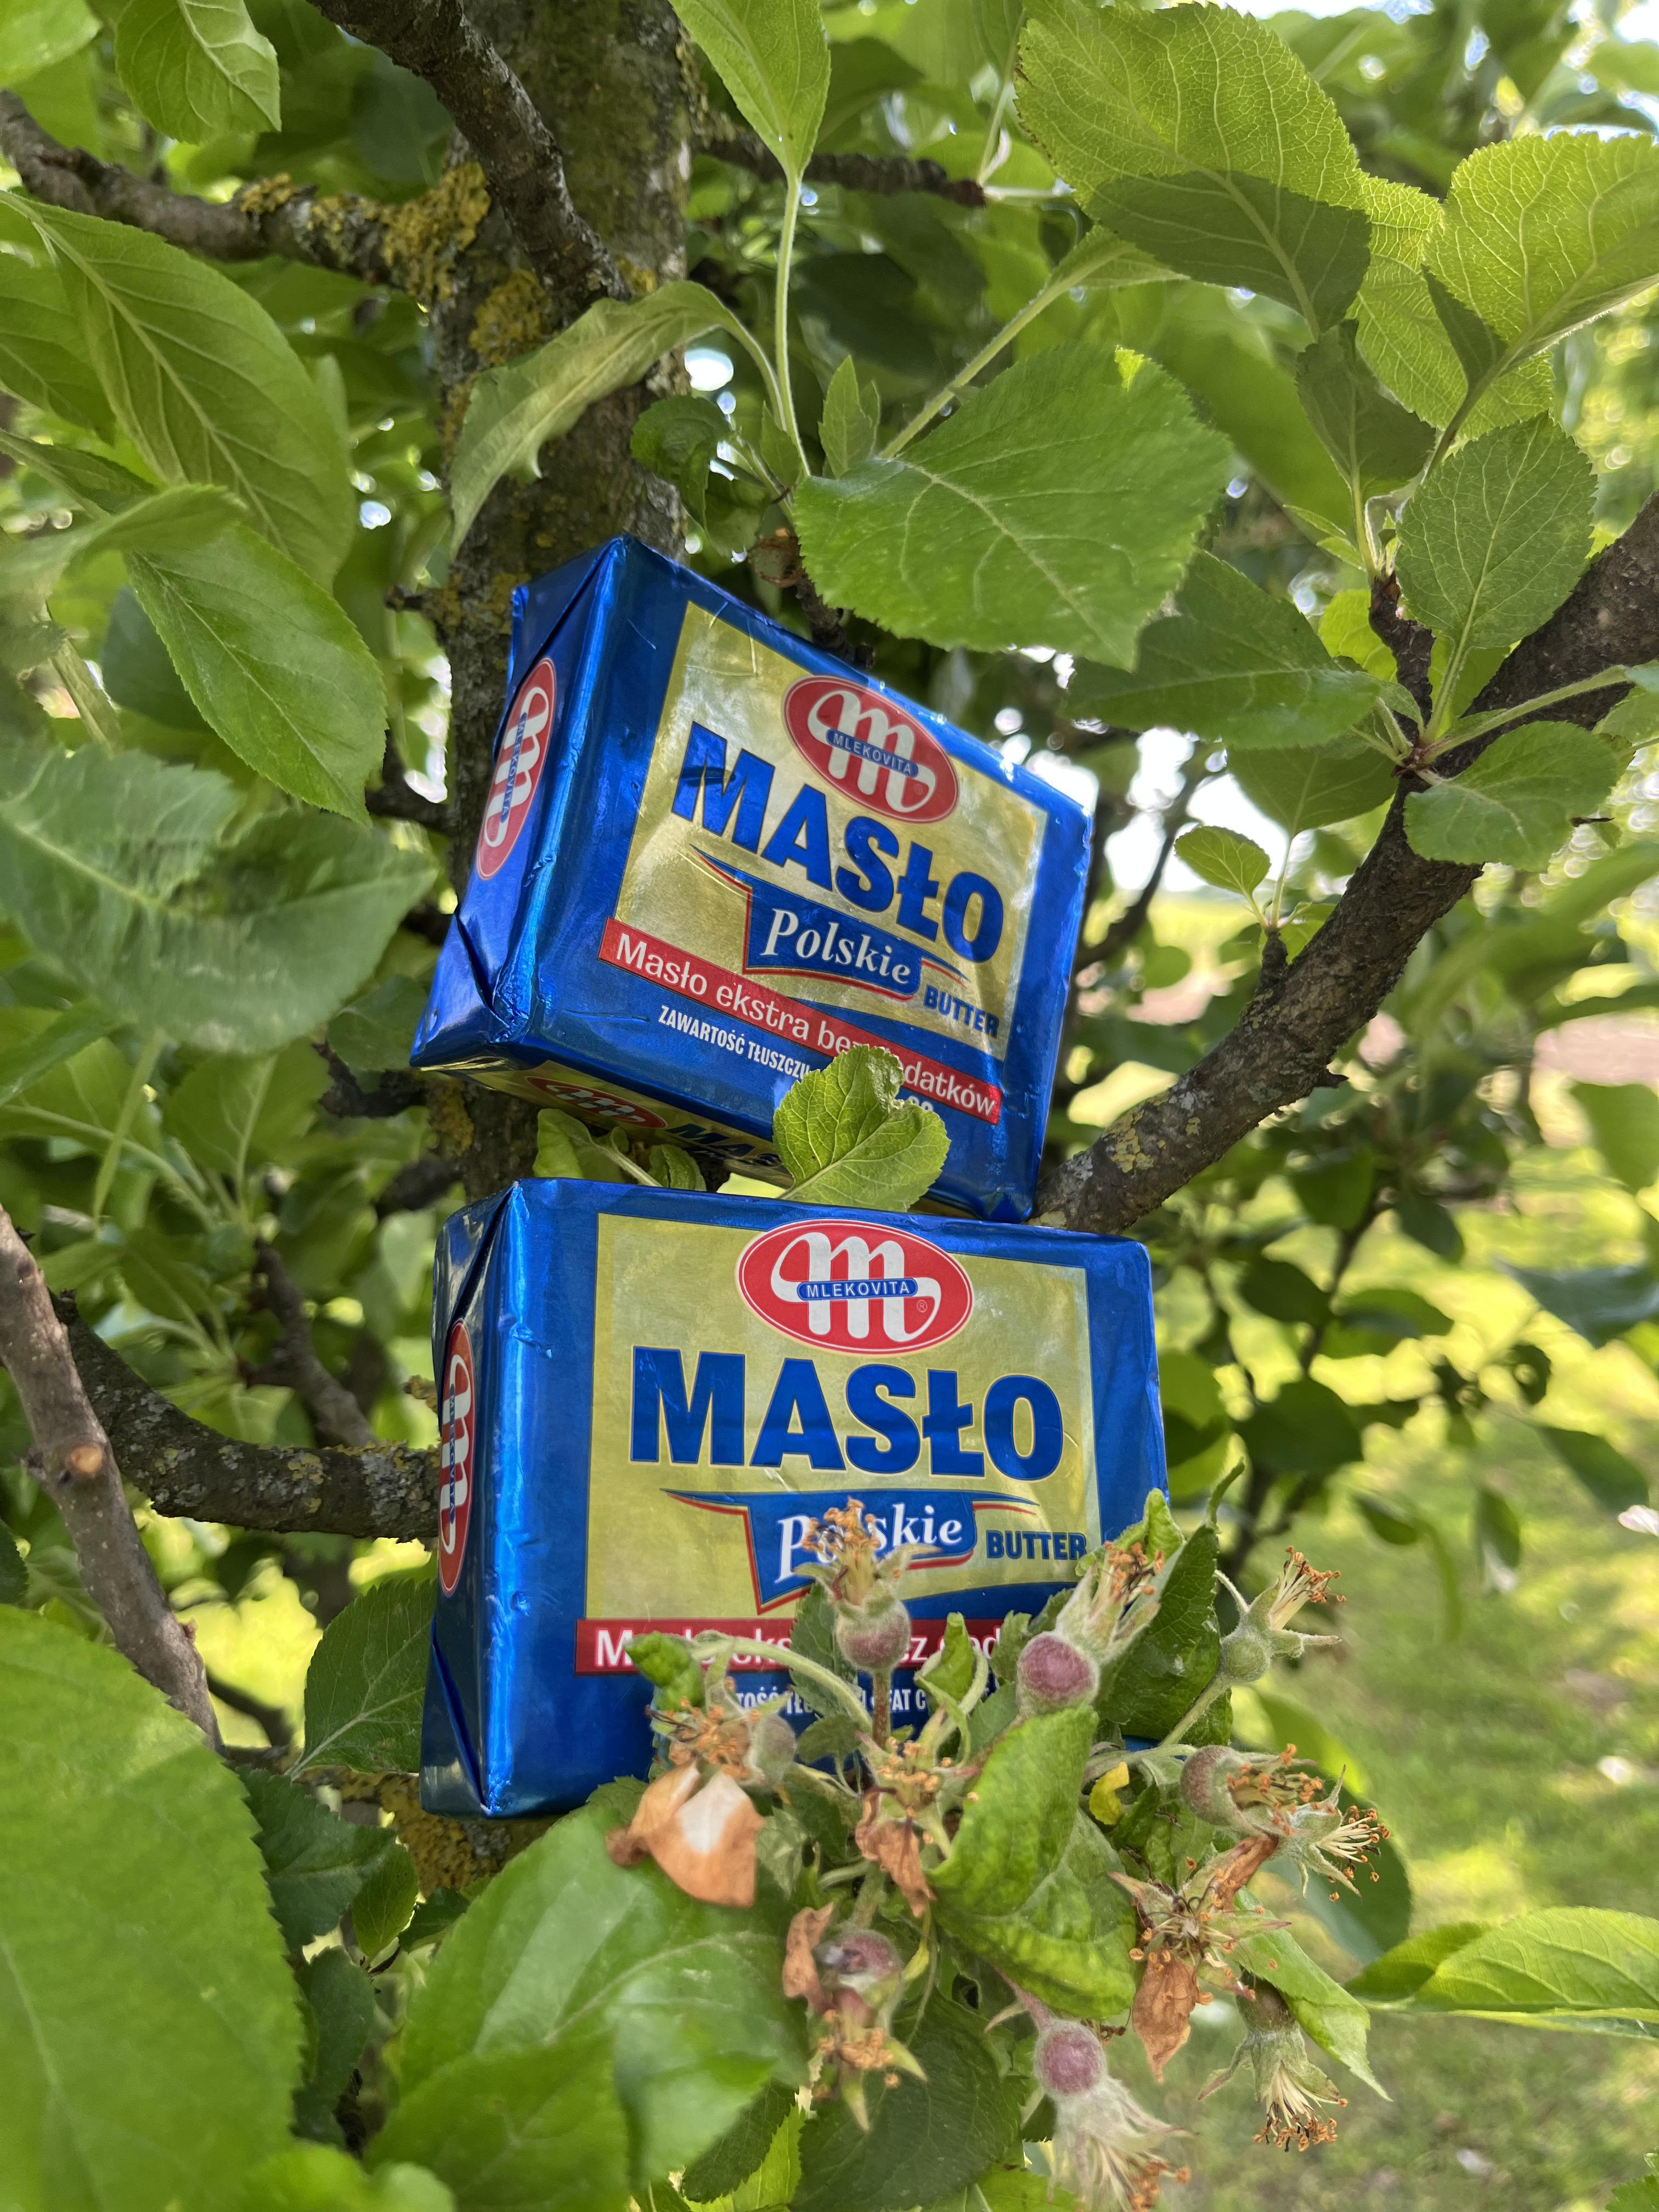Butter: (430, 545, 1098, 1209), (430, 1186, 1161, 1561)
